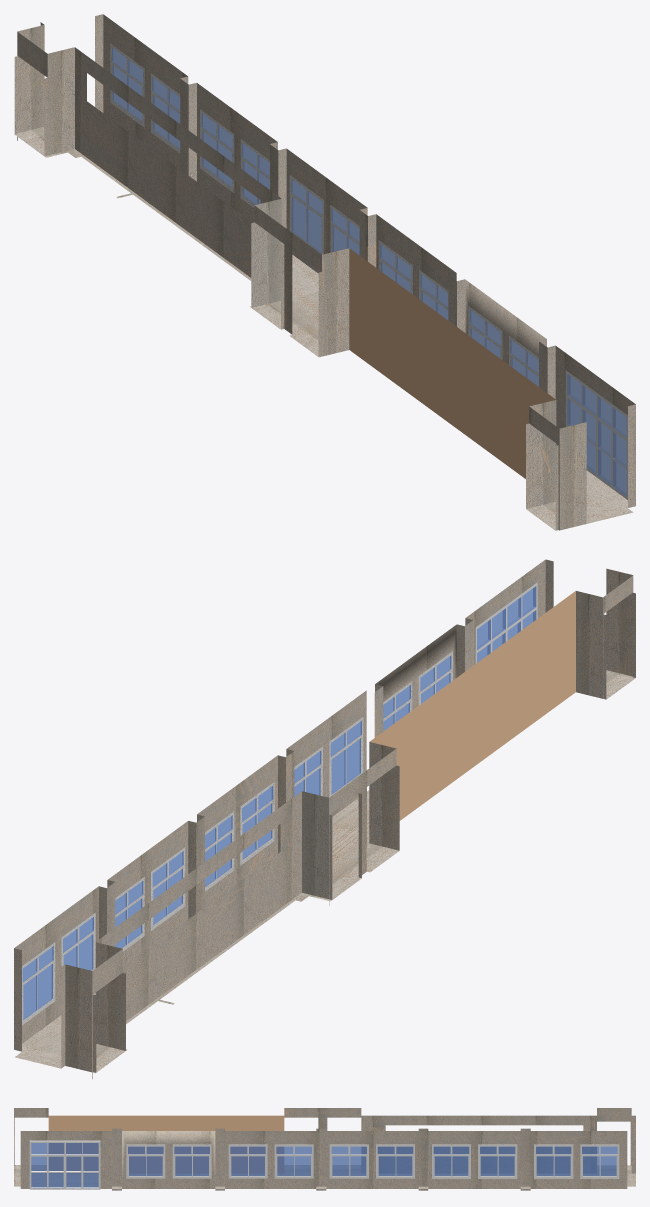
The model's file is COM036.obj.
The picture shows the model from 3 angles, top to bottom: view 1: azimuth 30°, elevation 25°; view 2: azimuth 150°, elevation 25°; view 3: azimuth 270°, elevation 25°; orthographic projection. The views are drawn at different scales.
Visible parts, largest first — view 1: Mesh84 COM036 Model, Mesh81 Grupo_36_1 COM036 Model, Mesh25 ventana1_3_4 COM036 Model, Mesh41 ventana1_3_6 COM036 Model, Mesh9 ventana1_3_2 COM036 Model, Mesh57 ventana1_3_8 COM036 Model, Mesh65 ventana1_3_9 COM036 Model, Mesh17 ventana1_3_3 COM036 Model, Mesh33 ventana1_3_5 COM036 Model, Mesh49 ventana1_3_7 COM036 Model, Mesh73 ventana1_3_10 COM036 Model, Mesh1 ventana1_3_1 COM036 Model; view 2: Mesh84 COM036 Model, Mesh81 Grupo_36_1 COM036 Model, Mesh41 ventana1_3_6 COM036 Model, Mesh1 ventana1_3_1 COM036 Model, Mesh65 ventana1_3_9 COM036 Model, Mesh17 ventana1_3_3 COM036 Model, Mesh57 ventana1_3_8 COM036 Model, Mesh25 ventana1_3_4 COM036 Model, Mesh9 ventana1_3_2 COM036 Model, Mesh33 ventana1_3_5 COM036 Model, Mesh73 ventana1_3_10 COM036 Model, Mesh49 ventana1_3_7 COM036 Model; view 3: Mesh84 COM036 Model, Mesh81 Grupo_36_1 COM036 Model, Mesh1 ventana1_3_1 COM036 Model, Mesh9 ventana1_3_2 COM036 Model, Mesh17 ventana1_3_3 COM036 Model, Mesh33 ventana1_3_5 COM036 Model, Mesh41 ventana1_3_6 COM036 Model, Mesh49 ventana1_3_7 COM036 Model, Mesh57 ventana1_3_8 COM036 Model, Mesh73 ventana1_3_10 COM036 Model, Mesh25 ventana1_3_4 COM036 Model, Mesh65 ventana1_3_9 COM036 Model.
Boxes of the visible parts, x1,y1,x2,y2 form: Mesh84 COM036 Model: (14,14,635,530); Mesh81 Grupo_36_1 COM036 Model: (565,370,627,499); Mesh25 ventana1_3_4 COM036 Model: (289,175,323,254); Mesh41 ventana1_3_6 COM036 Model: (110,43,144,127); Mesh9 ventana1_3_2 COM036 Model: (200,109,234,192); Mesh57 ventana1_3_8 COM036 Model: (151,73,180,153); Mesh65 ventana1_3_9 COM036 Model: (240,139,269,207); Mesh17 ventana1_3_3 COM036 Model: (330,205,359,255); Mesh33 ventana1_3_5 COM036 Model: (378,240,412,294); Mesh49 ventana1_3_7 COM036 Model: (468,306,502,359); Mesh73 ventana1_3_10 COM036 Model: (509,335,538,386); Mesh1 ventana1_3_1 COM036 Model: (419,270,448,320); Mesh84 COM036 Model: (14,559,635,1079); Mesh81 Grupo_36_1 COM036 Model: (475,582,537,663); Mesh41 ventana1_3_6 COM036 Model: (22,942,55,1025); Mesh1 ventana1_3_1 COM036 Model: (329,717,363,797); Mesh65 ventana1_3_9 COM036 Model: (151,847,185,930); Mesh17 ventana1_3_3 COM036 Model: (240,782,274,865); Mesh57 ventana1_3_8 COM036 Model: (61,913,95,970); Mesh25 ventana1_3_4 COM036 Model: (205,811,234,891); Mesh9 ventana1_3_2 COM036 Model: (115,877,144,951); Mesh33 ventana1_3_5 COM036 Model: (294,746,322,796); Mesh73 ventana1_3_10 COM036 Model: (418,651,452,705); Mesh49 ventana1_3_7 COM036 Model: (383,681,412,731); Mesh84 COM036 Model: (14,1108,635,1190); Mesh81 Grupo_36_1 COM036 Model: (29,1140,100,1189); Mesh1 ventana1_3_1 COM036 Model: (228,1144,267,1178); Mesh9 ventana1_3_2 COM036 Model: (478,1144,517,1178); Mesh17 ventana1_3_3 COM036 Model: (329,1144,368,1178); Mesh33 ventana1_3_5 COM036 Model: (274,1144,313,1178); Mesh41 ventana1_3_6 COM036 Model: (580,1144,619,1178); Mesh49 ventana1_3_7 COM036 Model: (172,1144,211,1178); Mesh57 ventana1_3_8 COM036 Model: (534,1144,573,1178); Mesh73 ventana1_3_10 COM036 Model: (126,1144,165,1178); Mesh25 ventana1_3_4 COM036 Model: (376,1144,414,1178); Mesh65 ventana1_3_9 COM036 Model: (432,1144,470,1178).
Size of the model in its own units: 3.29 by 3.85 by 35.01.
8 materials, 3 textured.
